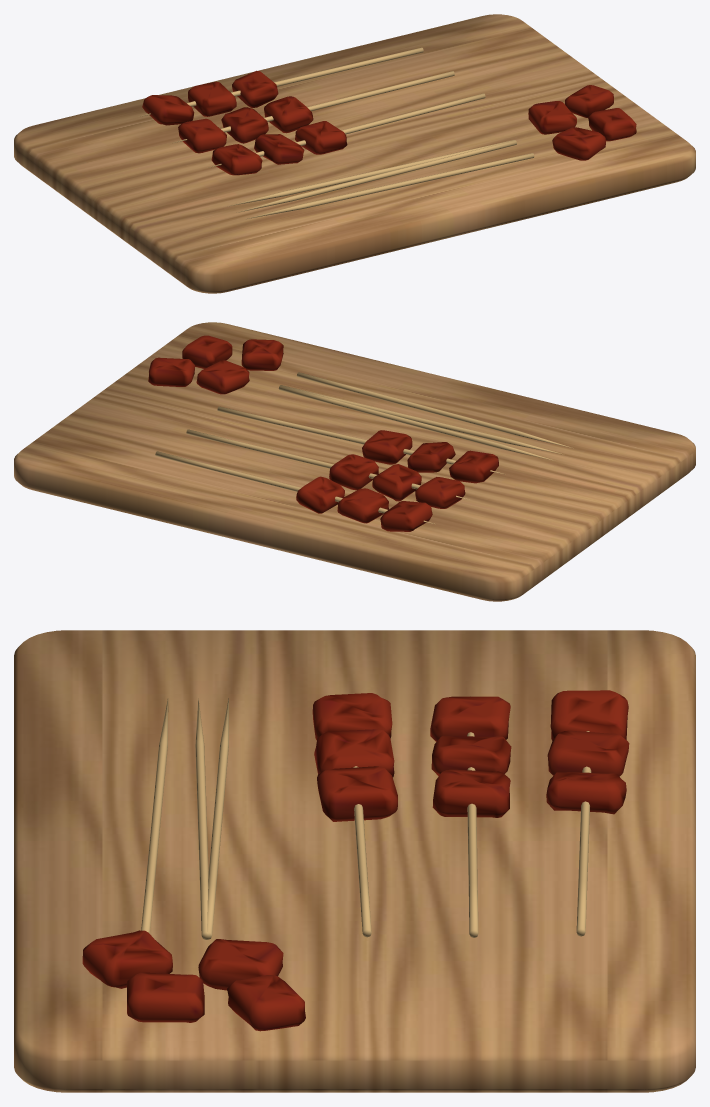
Rendered from paso-3.glb.
The picture shows the model from 3 angles, top to bottom: view 1: azimuth 30°, elevation 25°; view 2: azimuth 150°, elevation 25°; view 3: azimuth 270°, elevation 25°; orthographic projection. The views are drawn at different scales.
Visible parts, largest first — view 1: paso-3-0, paso-3-15, paso-3-14, paso-3-18, paso-3-12, paso-3-8, paso-3-16, paso-3-3, paso-3-6, paso-3-2, paso-3-10, paso-3-7 (+8 smaller); view 2: paso-3-0, paso-3-15, paso-3-13, paso-3-16, paso-3-12, paso-3-3, paso-3-2, paso-3-8, paso-3-7, paso-3-4, paso-3-18, paso-3-19 (+8 smaller); view 3: paso-3-0, paso-3-12, paso-3-17, paso-3-18, paso-3-19, paso-3-8, paso-3-2, paso-3-16, paso-3-3, paso-3-6, paso-3-11, paso-3-4 (+8 smaller).
Boxes of the visible parts, box(x1,y1,x2,y2) form: paso-3-0: box(14, 14, 695, 293); paso-3-15: box(245, 153, 534, 219); paso-3-14: box(236, 140, 516, 212); paso-3-18: box(552, 127, 605, 160); paso-3-12: box(295, 121, 347, 154); paso-3-8: box(264, 96, 313, 133); paso-3-16: box(528, 101, 576, 134); paso-3-3: box(188, 81, 236, 116); paso-3-6: box(178, 118, 226, 153); paso-3-2: box(142, 95, 194, 125); paso-3-10: box(211, 144, 262, 175); paso-3-7: box(221, 107, 268, 143); paso-3-0: box(14, 322, 695, 601); paso-3-15: box(297, 372, 573, 448); paso-3-13: box(278, 385, 554, 460); paso-3-16: box(196, 360, 249, 394); paso-3-12: box(362, 430, 412, 464); paso-3-3: box(337, 488, 388, 523); paso-3-2: box(380, 501, 432, 531); paso-3-8: box(329, 454, 378, 490); paso-3-7: box(372, 464, 421, 501); paso-3-4: box(296, 476, 344, 513); paso-3-18: box(241, 339, 283, 370); paso-3-19: box(148, 357, 194, 386); paso-3-0: box(14, 630, 695, 1092); paso-3-12: box(317, 766, 397, 821); paso-3-17: box(127, 972, 204, 1022); paso-3-18: box(82, 930, 172, 988); paso-3-19: box(227, 975, 305, 1031); paso-3-8: box(432, 769, 510, 817); paso-3-2: box(550, 690, 628, 740); paso-3-16: box(198, 939, 283, 990); paso-3-3: box(547, 730, 629, 776); paso-3-6: box(430, 696, 510, 741); paso-3-11: box(314, 729, 394, 777); paso-3-4: box(546, 772, 626, 814).
Bounding box in the file's own units: 0.4 × 0.0354 × 0.27.
Materials: 3 (1 with a texture image).
